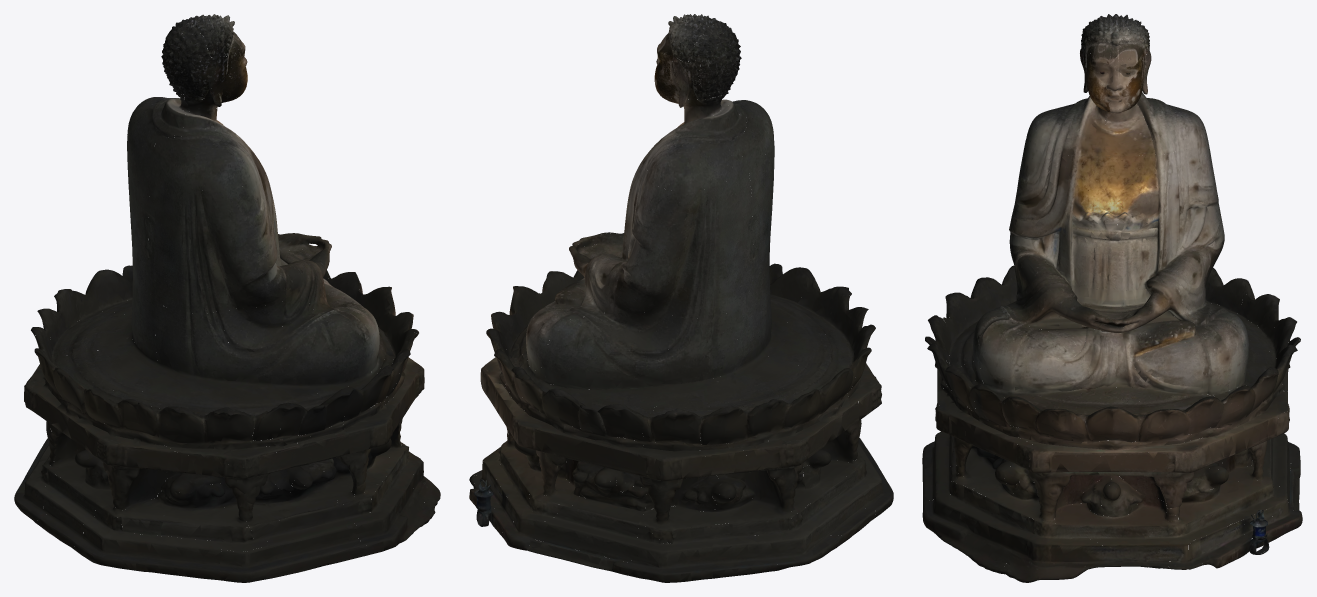
File: f3-amitabha.glb
3 renders of one model, left to right at view 1: azimuth 30°, elevation 25°; view 2: azimuth 150°, elevation 25°; view 3: azimuth 270°, elevation 25°, orthographic. The views are drawn at different scales.
Parts seen in each view (by area): view 1: tripo_node_0c157686-f47f-4462-82e7-10f1fa8ab79c; view 2: tripo_node_0c157686-f47f-4462-82e7-10f1fa8ab79c; view 3: tripo_node_0c157686-f47f-4462-82e7-10f1fa8ab79c.
Part boxes in pixels (<box>): tripo_node_0c157686-f47f-4462-82e7-10f1fa8ab79c: <box>14,14,440,582</box>; tripo_node_0c157686-f47f-4462-82e7-10f1fa8ab79c: <box>469,14,893,582</box>; tripo_node_0c157686-f47f-4462-82e7-10f1fa8ab79c: <box>922,14,1302,582</box>.
Size of the model in its own units: 0.7357 by 1 by 0.7241.
1 material, 1 textured.
